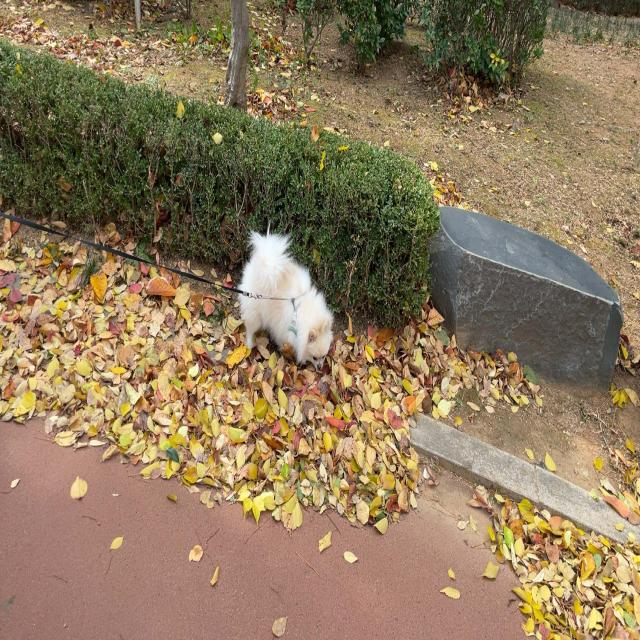Dog: (238, 232, 334, 372)
